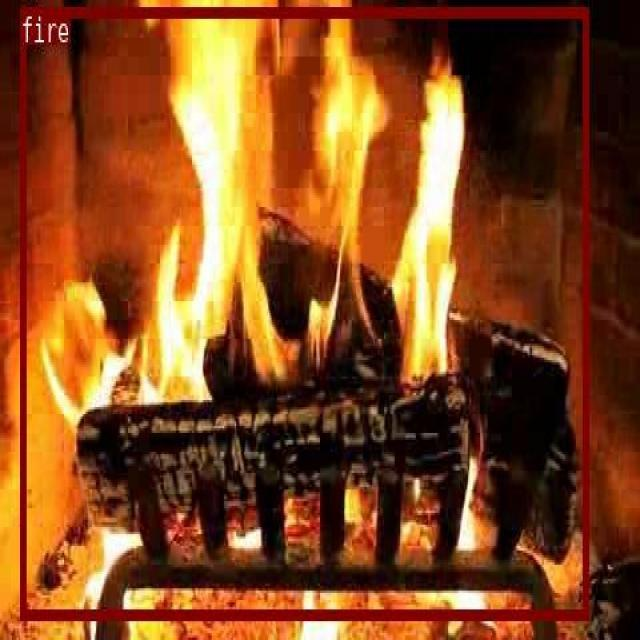fire: (20, 7, 587, 617)
